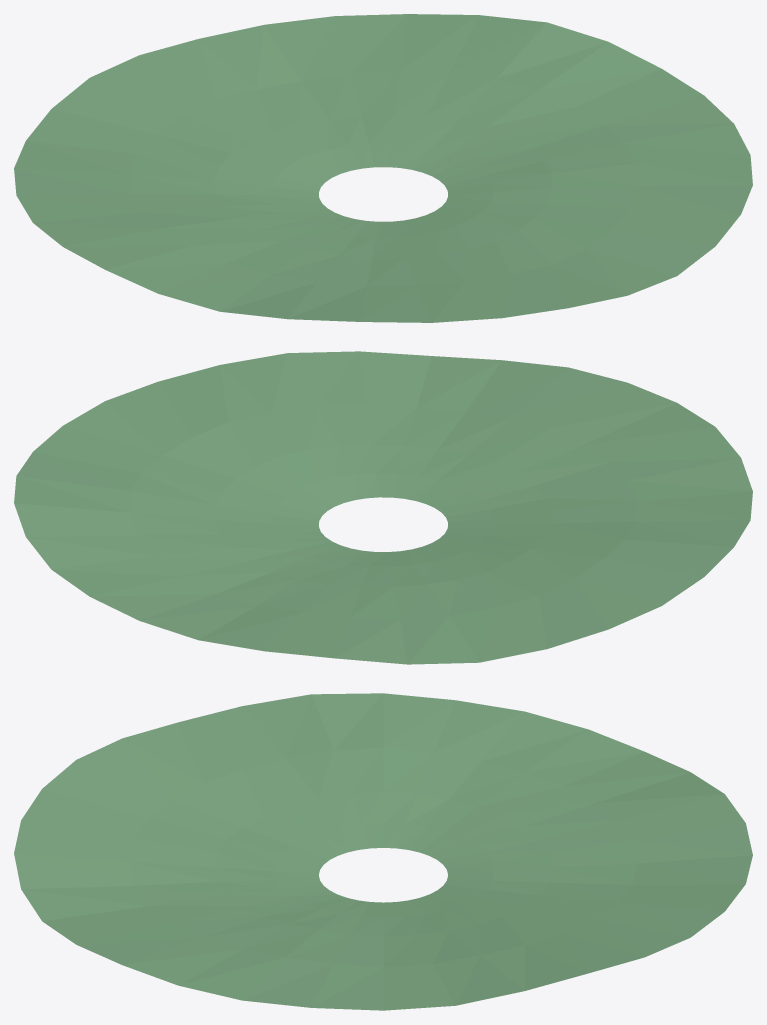
File: WG_DistantRidges.glb
3 views of the same model, one above another, from view 1: azimuth 30°, elevation 25°; view 2: azimuth 150°, elevation 25°; view 3: azimuth 270°, elevation 25° (orthographic).
Parts seen in each view (by area): view 1: GEO_DistantRidges_LOD0; view 2: GEO_DistantRidges_LOD0; view 3: GEO_DistantRidges_LOD0.
Boxes of the visible parts, x1,y1,x2,y2 form: GEO_DistantRidges_LOD0: [14, 14, 752, 322]; GEO_DistantRidges_LOD0: [14, 351, 752, 664]; GEO_DistantRidges_LOD0: [14, 693, 752, 1010].
Bounding box in the file's own units: 480 × 22.68 × 480.
